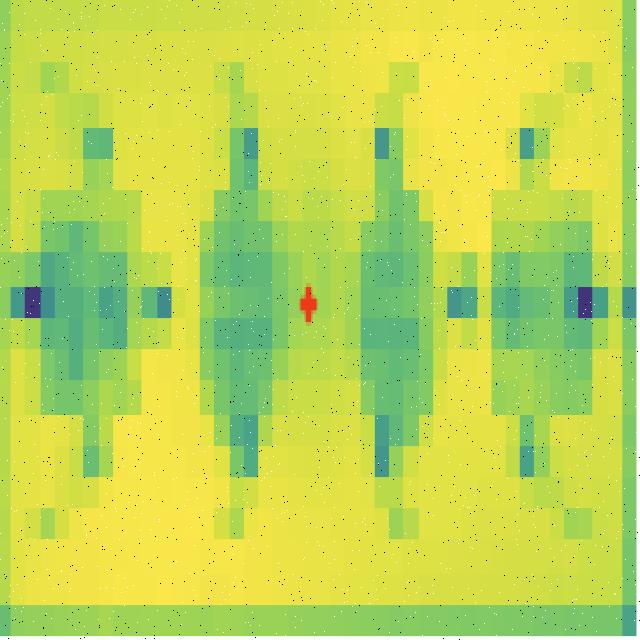Concrete: (478, 171, 597, 442)
Glass: (337, 182, 442, 457)
Metal: (28, 162, 147, 440)
Wood: (184, 177, 300, 448)
